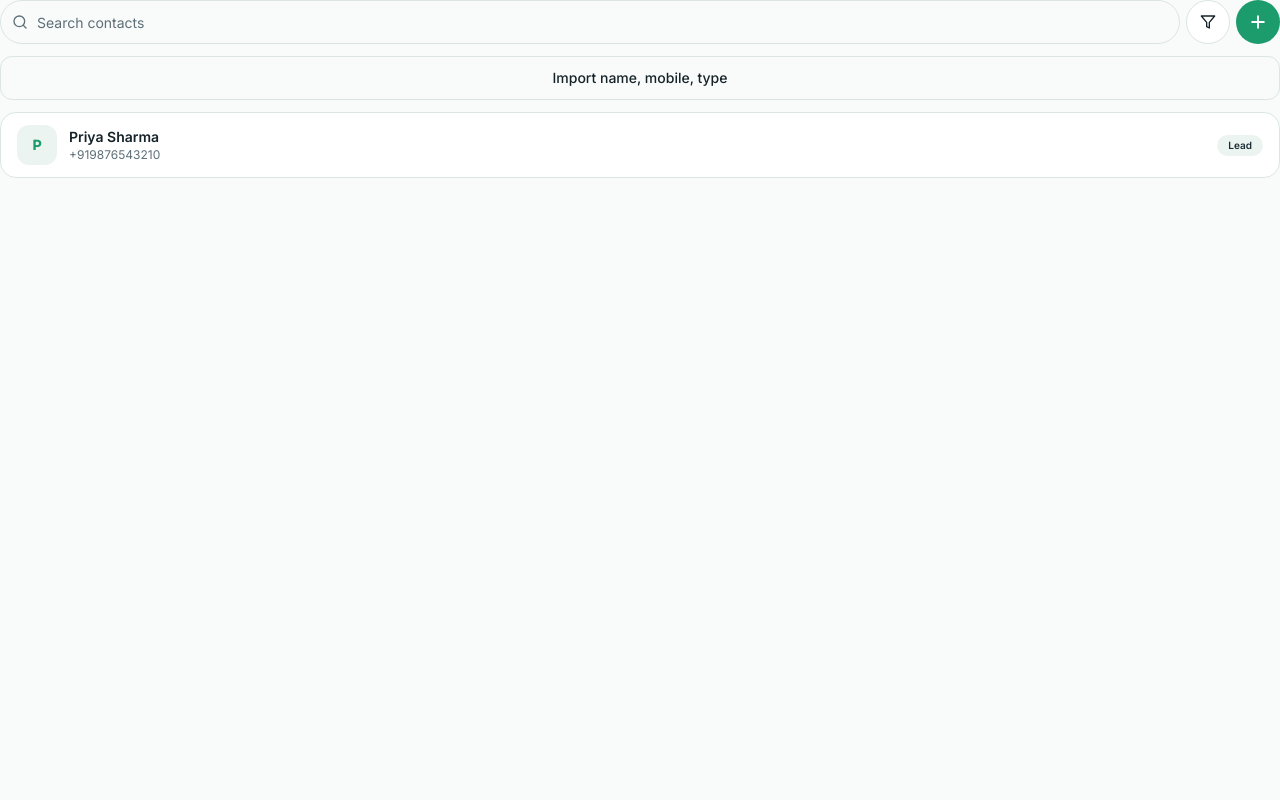
contacts › opens the contact hub with enquiry history
Click the text "Priya Sharma": coordinates (114, 136) [69,128,159,145]
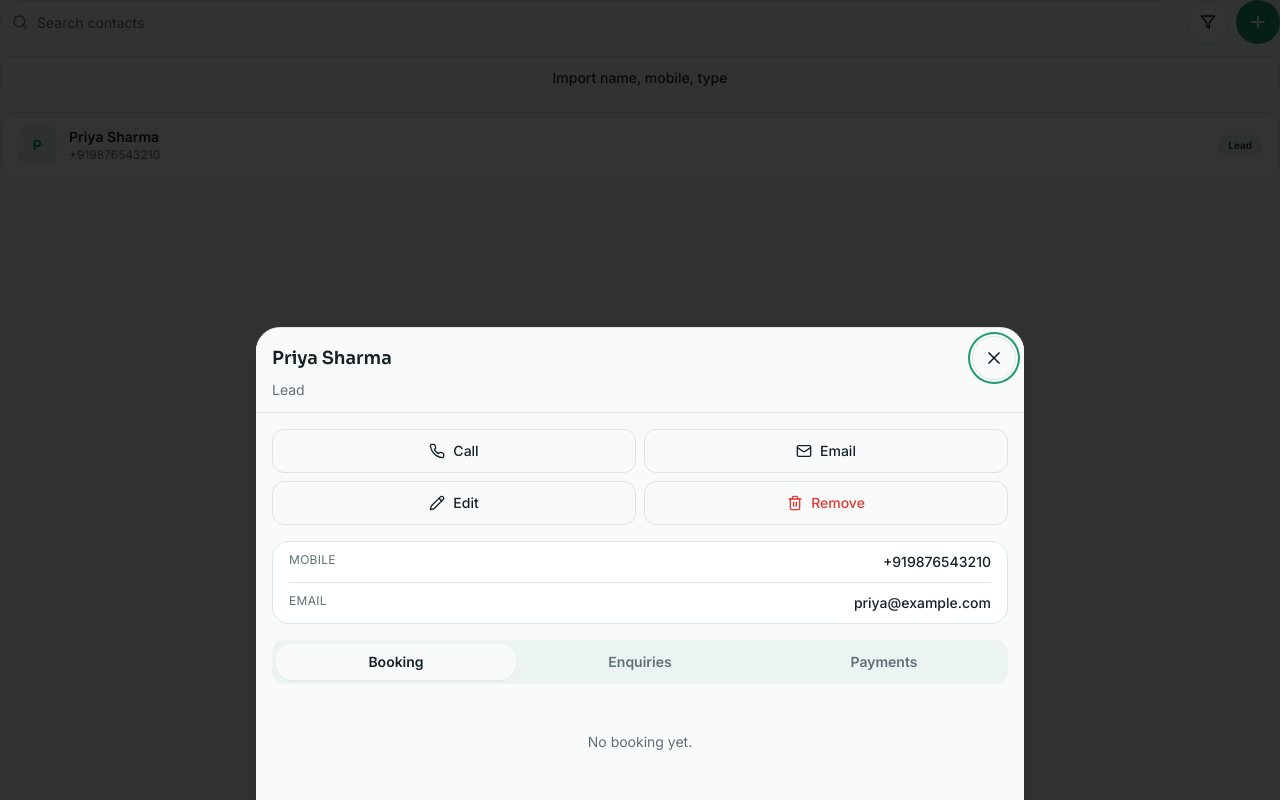
Click the button "Enquiries": coordinates (640, 662) [520,644,760,680]
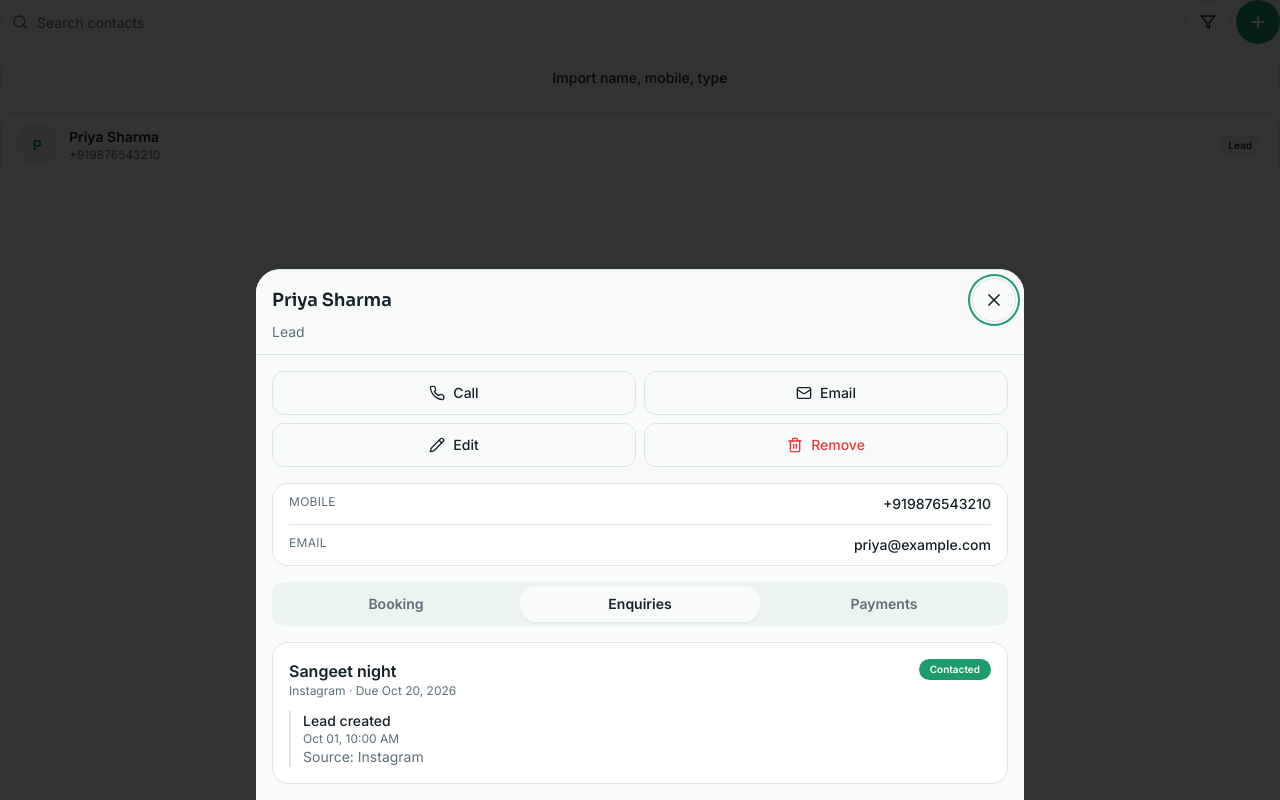
Check: the text "Sangeet night" is shown, box [289,661,396,681]
